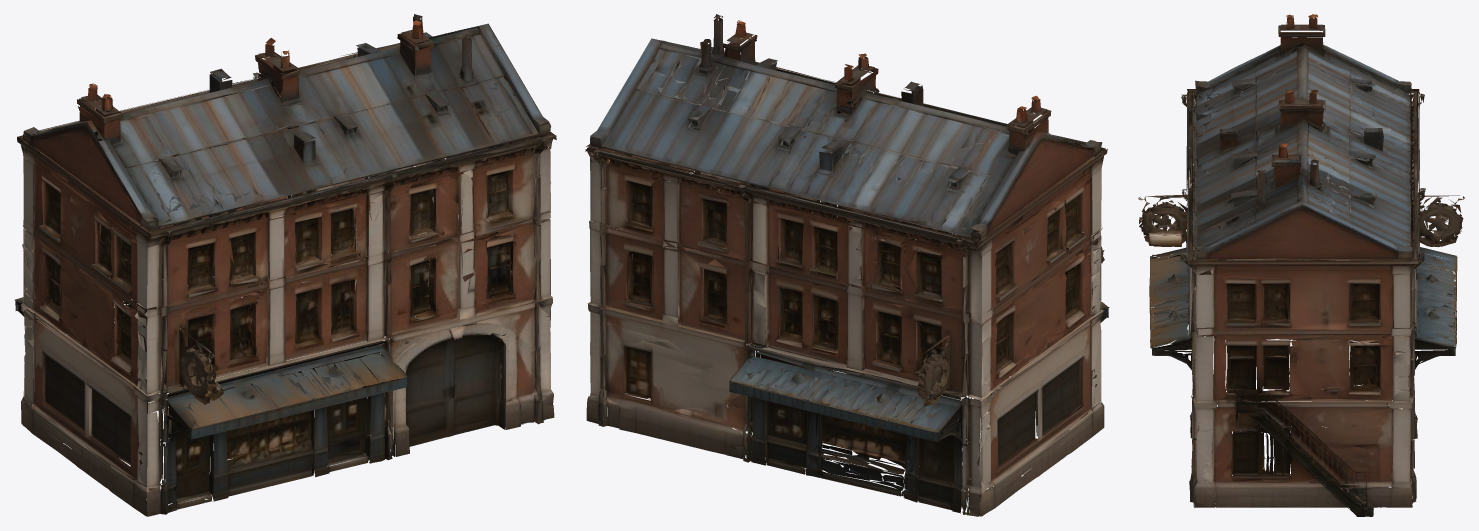
The model's file is ch03_shop_printworks_rowhouse.glb.
3 views of the same model, side by side, from view 1: azimuth 30°, elevation 25°; view 2: azimuth 150°, elevation 25°; view 3: azimuth 270°, elevation 25° (orthographic). The views are drawn at different scales.
Visible parts, largest first — view 1: material; view 2: material; view 3: material.
Part boxes in pixels (x1,y1,x2,y2): material: (14, 14, 556, 516); material: (585, 14, 1109, 516); material: (1138, 14, 1464, 516).
Size of the model in its own units: 0.8581 by 0.7278 by 0.6527.
Materials: 1 (1 with a texture image).
